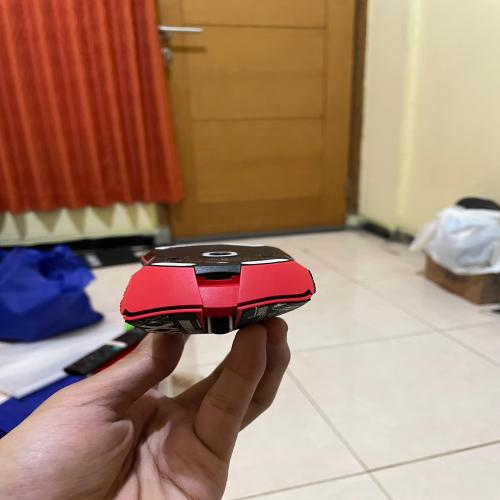mouse: (116, 236, 332, 341)
